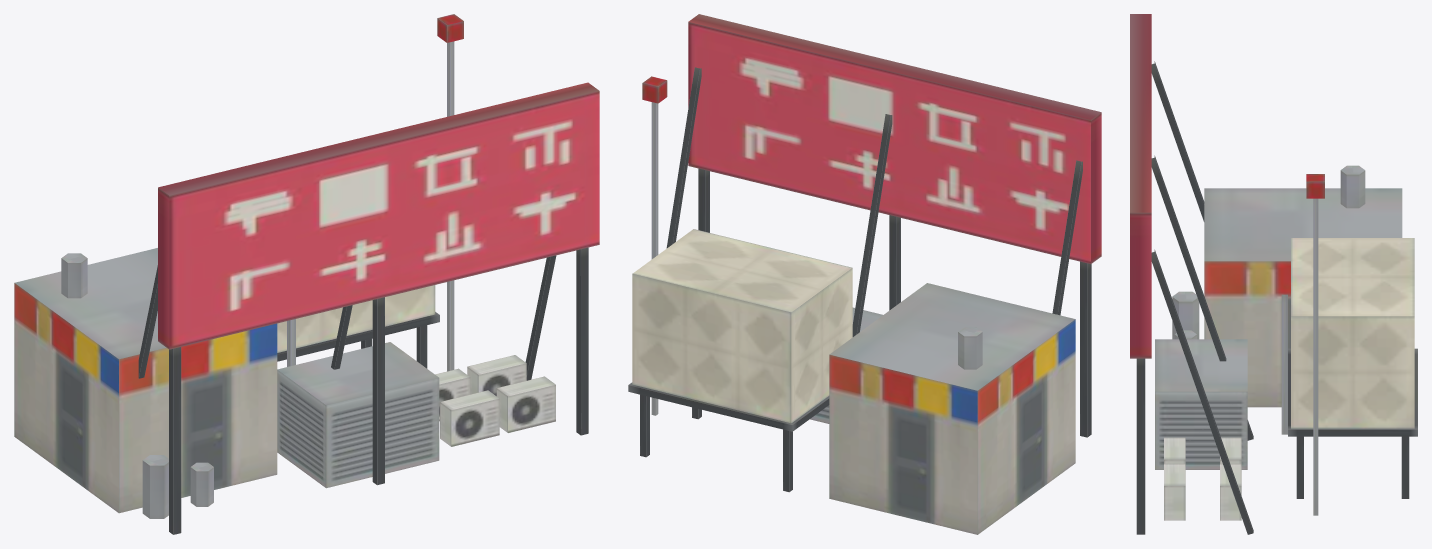
The model's file is tokyo_rooftop_mech.glb.
3 renders of one model, left to right at view 1: azimuth 30°, elevation 25°; view 2: azimuth 150°, elevation 25°; view 3: azimuth 270°, elevation 25°, orthographic. The views are drawn at different scales.
Parts seen in each view (by area): view 1: tokyo_rooftop_mech; view 2: tokyo_rooftop_mech; view 3: tokyo_rooftop_mech.
Boxes of the visible parts, box(x1,y1,x2,y2) form: tokyo_rooftop_mech: box(14, 14, 599, 534); tokyo_rooftop_mech: box(628, 14, 1101, 534); tokyo_rooftop_mech: box(1130, 14, 1417, 534).
Bounding box in the file's own units: 7.8 × 6.02 × 4.65.
1 material, 1 textured.
